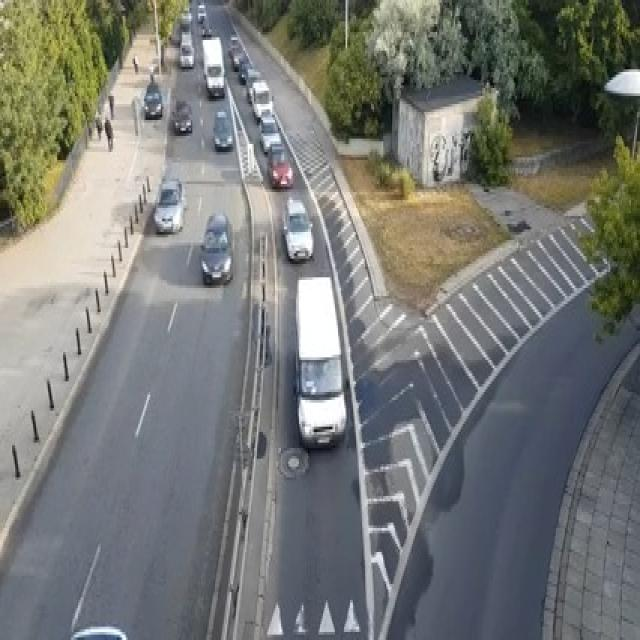car: (293, 275, 347, 448), (200, 211, 233, 285), (281, 195, 312, 261), (154, 176, 186, 232), (267, 141, 293, 187), (250, 77, 274, 120), (258, 112, 281, 152), (64, 624, 134, 637), (212, 110, 233, 150), (172, 99, 192, 133), (143, 83, 162, 117), (245, 67, 260, 101), (228, 43, 245, 69), (179, 42, 194, 66), (239, 58, 252, 82), (168, 18, 180, 42), (179, 8, 192, 27), (179, 30, 192, 46), (197, 3, 206, 21), (201, 24, 212, 37)
